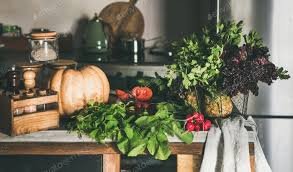Lettuce: (94, 105, 170, 144)
